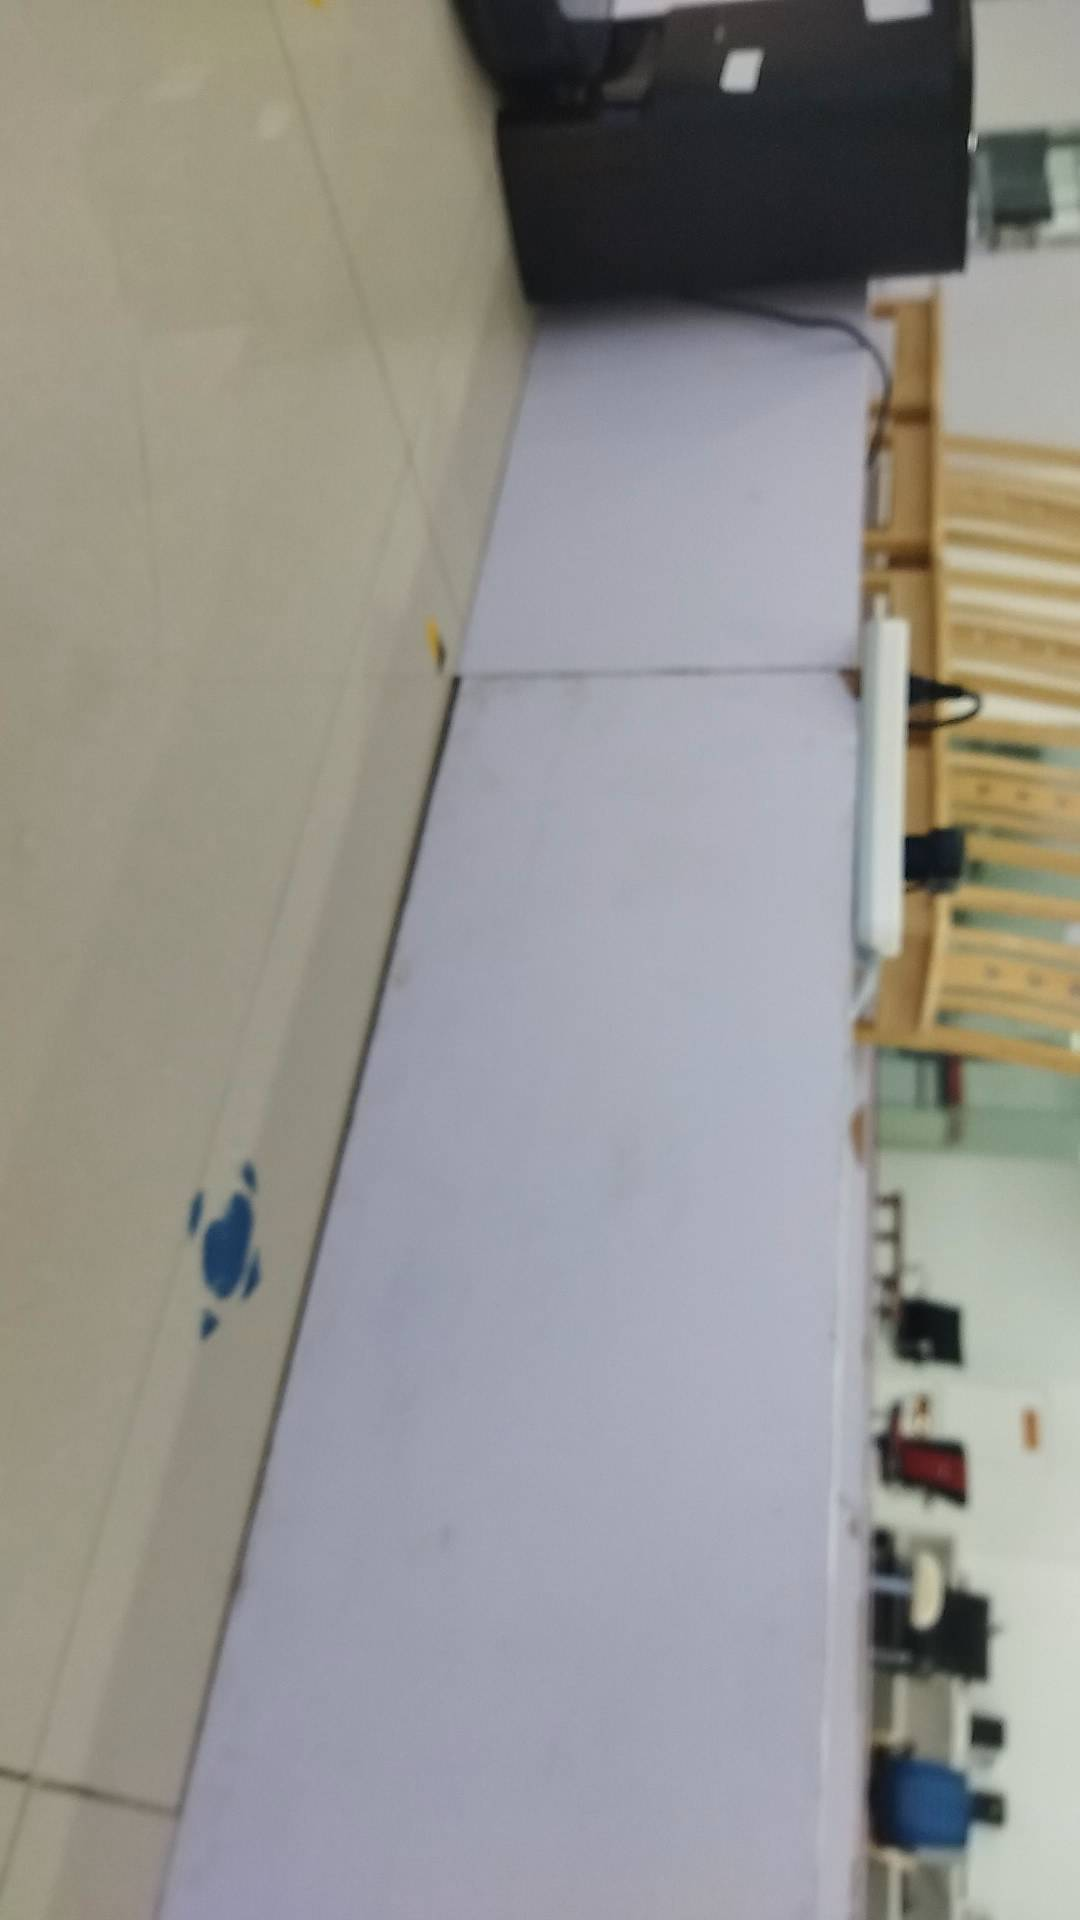dust collecting barrel: (491, 1, 975, 301)
